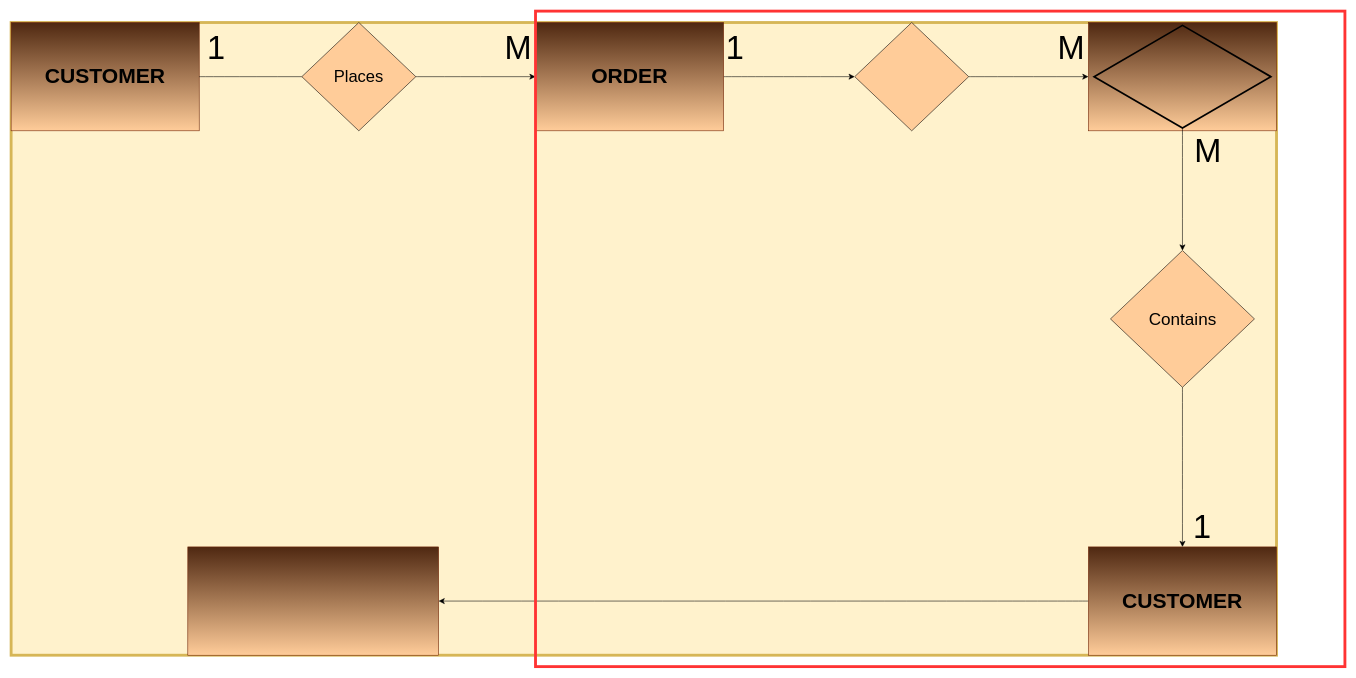
Some shapes in this 1356 by 678 pixel diagram are drawn without their labels. Here are the shapes that lost their labels. From the top down, the centre of each, then its label:
(x=911, y=76): Has
(x=1182, y=76): ORDER LANE
(x=313, y=600): Distributer
